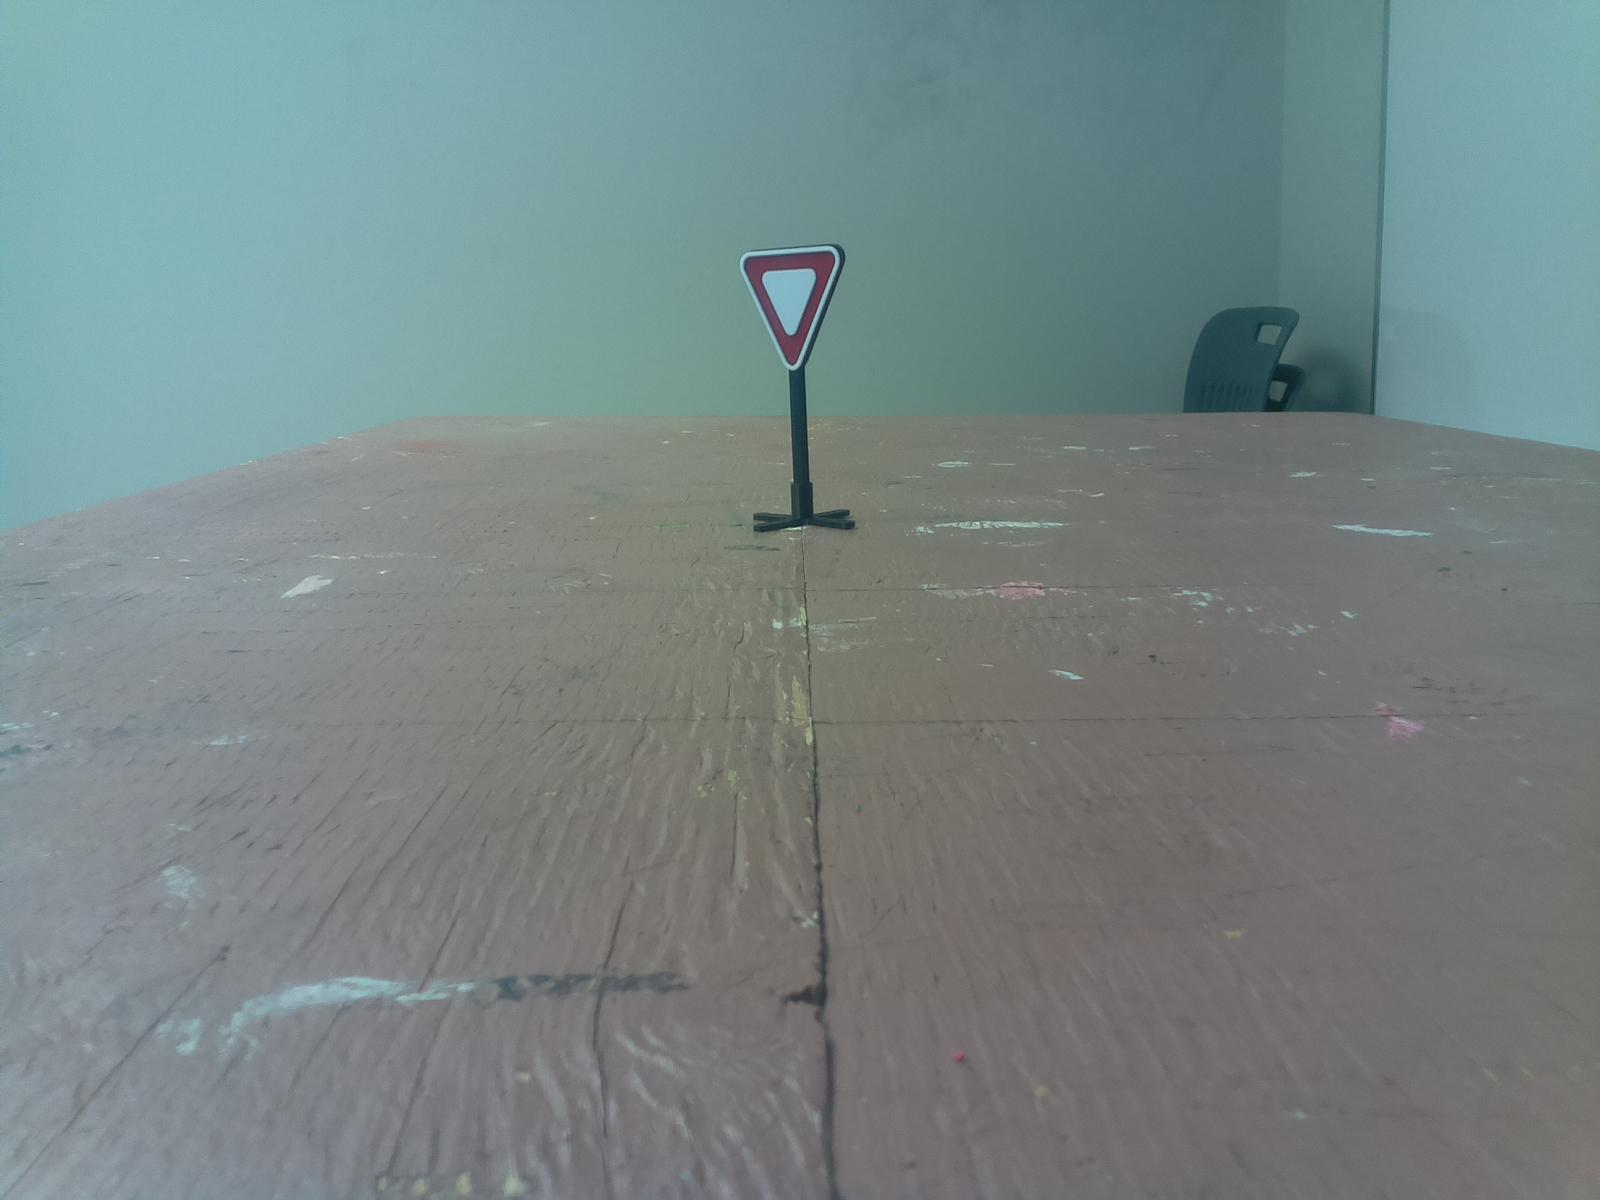sign_yield: (722, 236, 862, 379)
